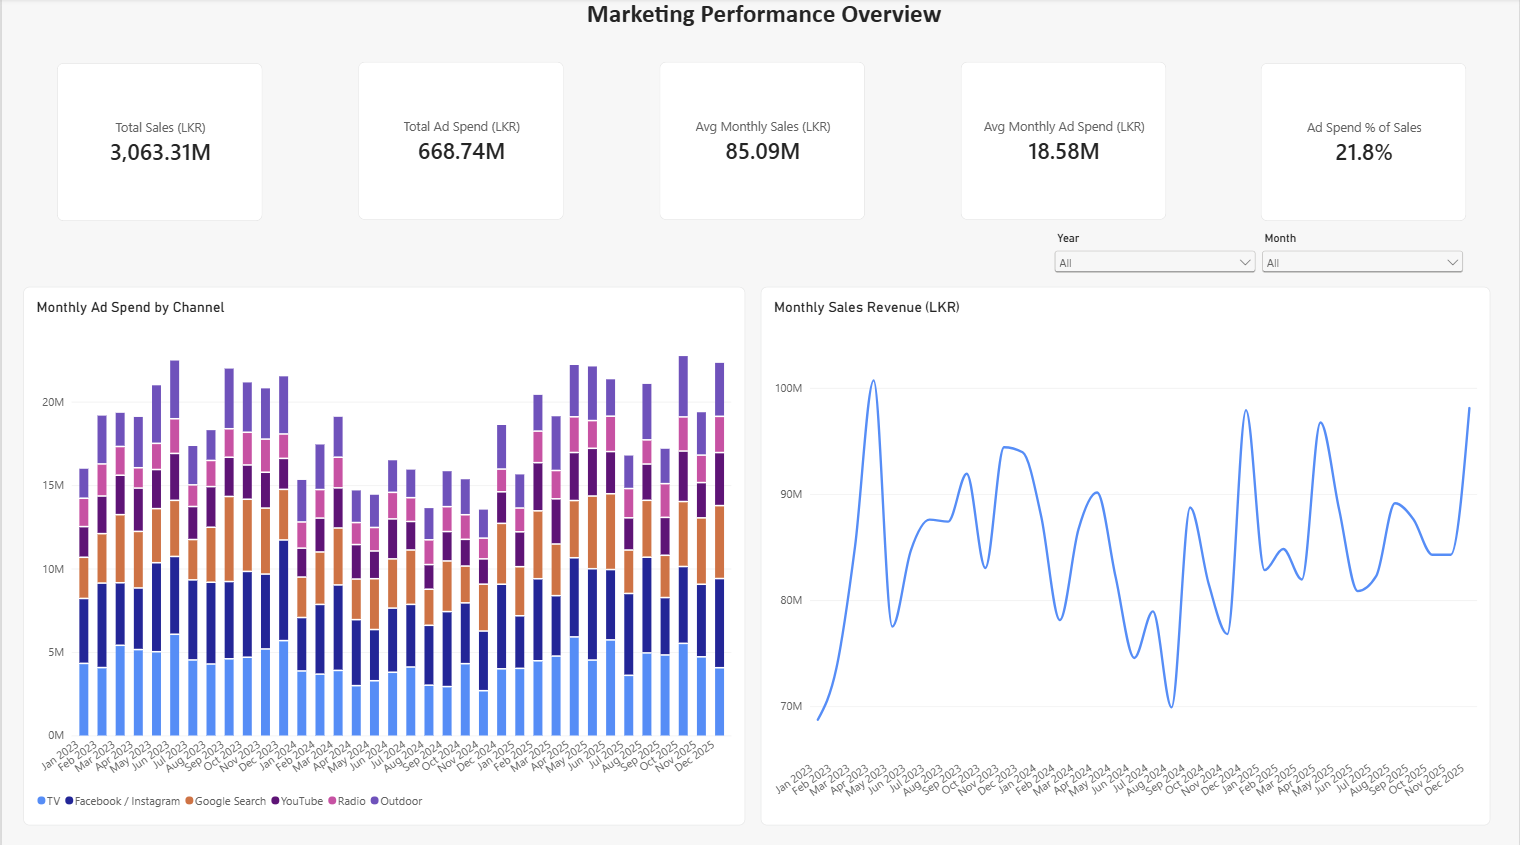

The dashboard page shown, as its layout file describes it:
{"tool":"powerbi","page":{"name":"Overview","canvas":[1920,1080],"ordinal":0},"visuals":[{"type":"textbox","box":[10,0,1910,52.5],"z":0},{"type":"slicer","fields":{"Values":["Calendar.Year"]},"box":[1326.7,295,264,83],"z":1000},{"type":"slicer","fields":{"Values":["Calendar.Month"]},"box":[1590,295,264,83],"z":2000},{"type":"cardVisual","fields":{"Data":["_Measures.Total Sales (LKR)"]},"box":[70,81.7,260,200],"z":3000},{"type":"cardVisual","fields":{"Data":["_Measures.Total Ad Spend (LKR)"]},"box":[450.8,81.2,260,200],"z":4000},{"type":"cardVisual","fields":{"Data":["_Measures.Avg Monthly Sales (LKR)"]},"box":[831.7,81.2,260,200],"z":5000},{"type":"cardVisual","fields":{"Data":["_Measures.Avg Monthly Ad Spend (LKR)"]},"box":[1212.5,81.2,260,200],"z":6000},{"type":"cardVisual","fields":{"Data":["_Measures.Ad Spend % of Sales"]},"box":[1593.3,81.7,260,200],"z":7000},{"type":"lineChart","title":"Monthly Sales Revenue (LKR)","fields":{"Category":["Calendar.Month Year"],"Y":["_Measures.Total Sales (LKR)"]},"box":[960,365,923.3,681.7],"z":8000},{"type":"columnChart","title":"Monthly Ad Spend by Channel","fields":{"Category":["Calendar.Month Year"],"Series":["Dim_Channel.channel"],"Y":["_Measures.Channel Spend (LKR)"]},"box":[26.7,365,913.3,681.7],"z":9000}]}

Visuals, with their boxes in screenshot pixels (x1, y1, x2, y2), scaled from the page's 1920x1080 canvas onto the 1520x845 screenshot:
textbox: crop(8, 0, 1519, 41)
slicer - Calendar.Year: crop(1050, 231, 1259, 296)
slicer - Calendar.Month: crop(1259, 231, 1468, 296)
cardVisual - _Measures.Total Sales (LKR): crop(55, 64, 261, 220)
cardVisual - _Measures.Total Ad Spend (LKR): crop(357, 64, 563, 220)
cardVisual - _Measures.Avg Monthly Sales (LKR): crop(658, 64, 864, 220)
cardVisual - _Measures.Avg Monthly Ad Spend (LKR): crop(960, 64, 1166, 220)
cardVisual - _Measures.Ad Spend % of Sales: crop(1261, 64, 1467, 220)
"Monthly Sales Revenue (LKR)" lineChart: crop(760, 286, 1491, 819)
"Monthly Ad Spend by Channel" columnChart: crop(21, 286, 744, 819)
